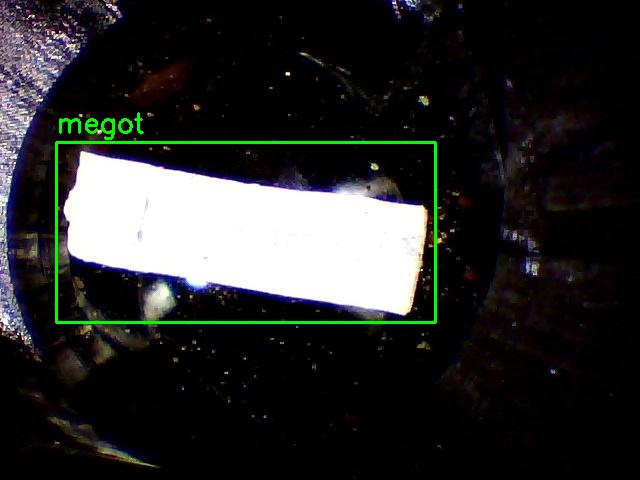megot: (56, 142, 435, 322)
